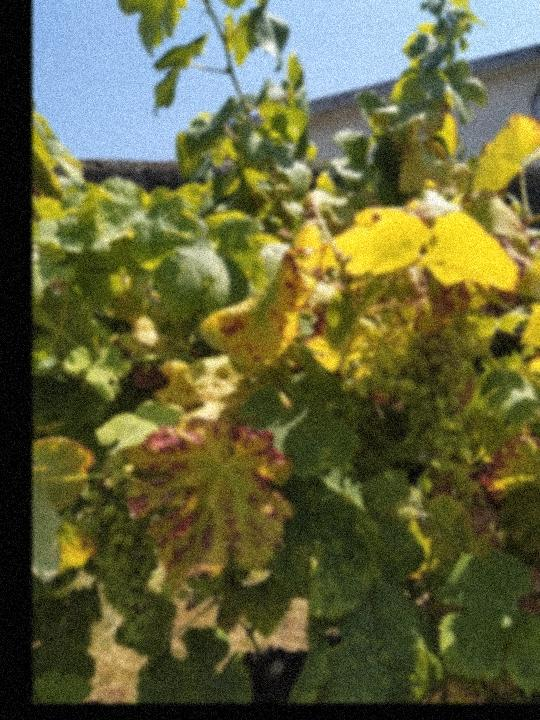grape: (339, 315, 476, 464), (73, 484, 160, 645)
